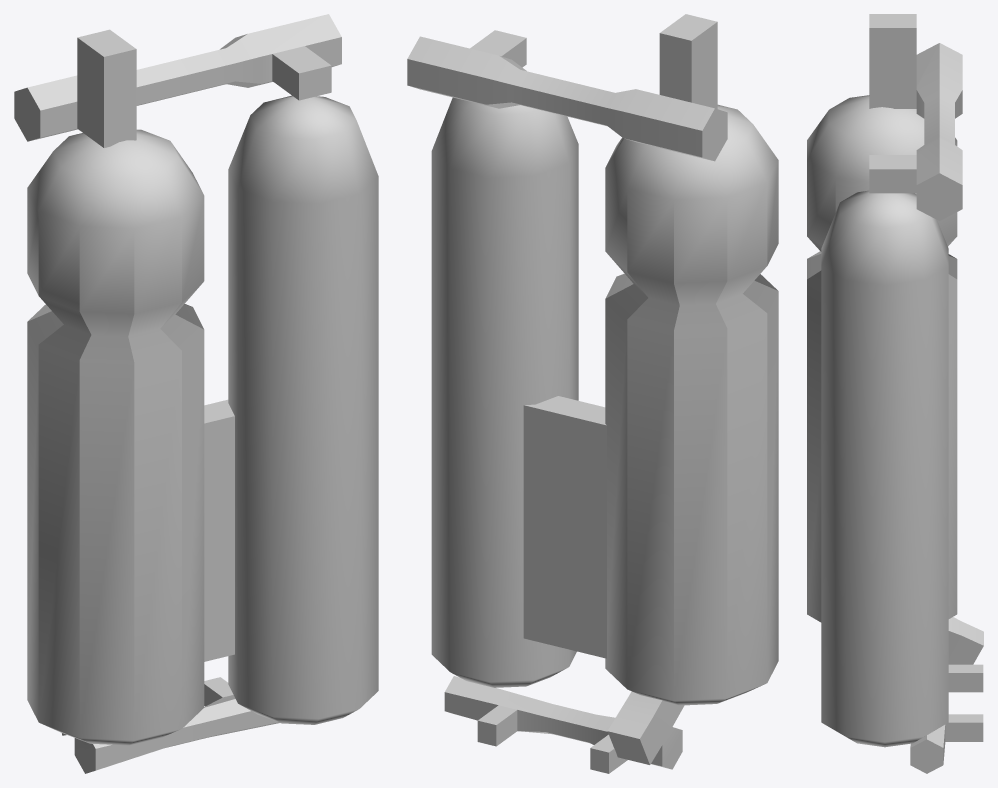
File: watergunTank.fbx
3 renders of one model, left to right at view 1: azimuth 30°, elevation 25°; view 2: azimuth 150°, elevation 25°; view 3: azimuth 270°, elevation 25°, orthographic. The views are drawn at different scales.
Parts seen in each view (by area): view 1: watergunTank_mesh; view 2: watergunTank_mesh; view 3: watergunTank_mesh.
Boxes of the visible parts, bbox=[...] form: watergunTank_mesh: bbox=[14, 14, 378, 773]; watergunTank_mesh: bbox=[407, 14, 778, 773]; watergunTank_mesh: bbox=[807, 14, 983, 773].
Bounding box in the file's own units: 4.08 × 8.74 × 2.12.
Materials: 1 (1 with a texture image).
